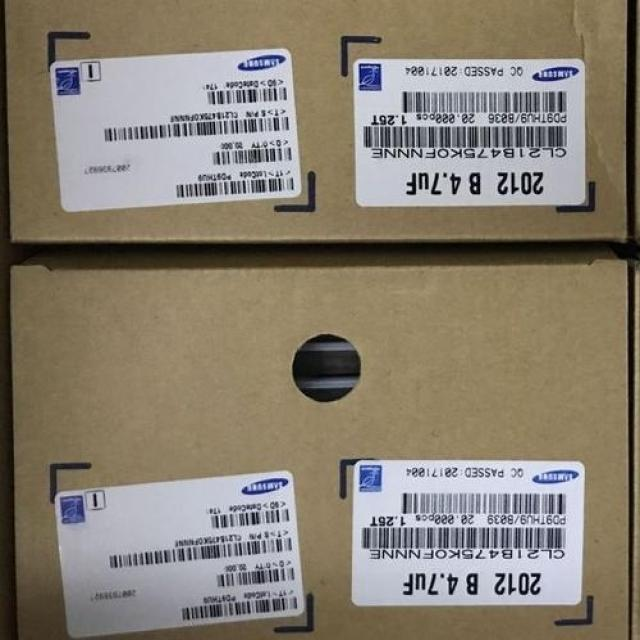box: (10, 246, 632, 639), (3, 1, 633, 245)
